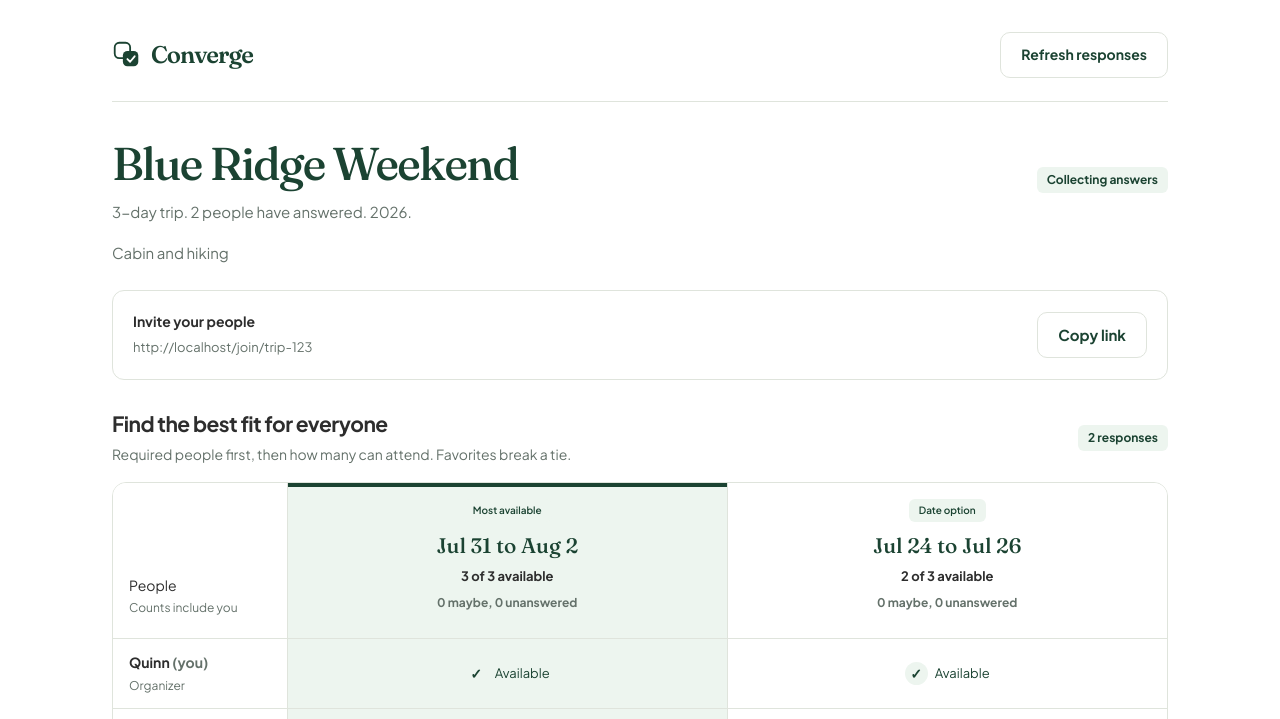
Test: ManageTrip › selects the most-attended date initially and preserves a deliberate selection on refresh
Step 1. Click the button with aria-label "Choose Jul 24 to Jul 26" → point(947, 560), box [728,483,1167,638]
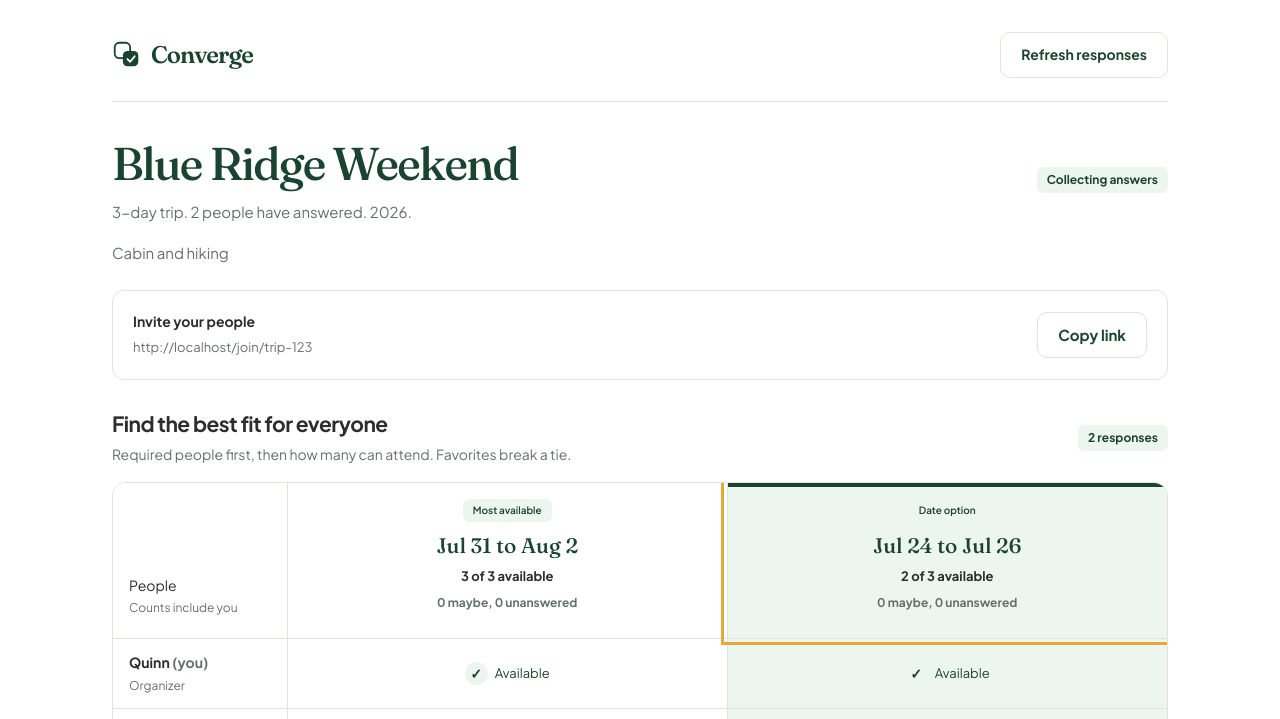
Step 2. Click the button "Refresh responses" → point(1084, 54), box [1000,32,1168,78]
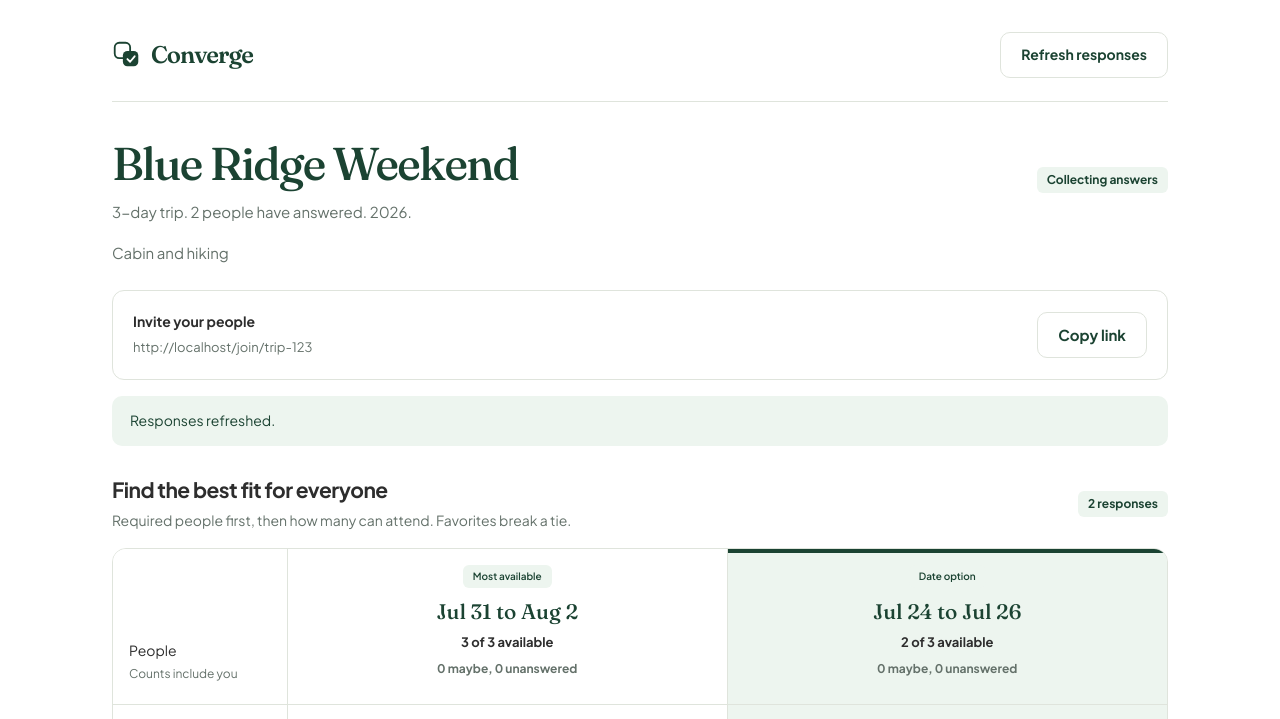
Expected: the text "Responses refreshed." is shown, [112,396,1168,446]
